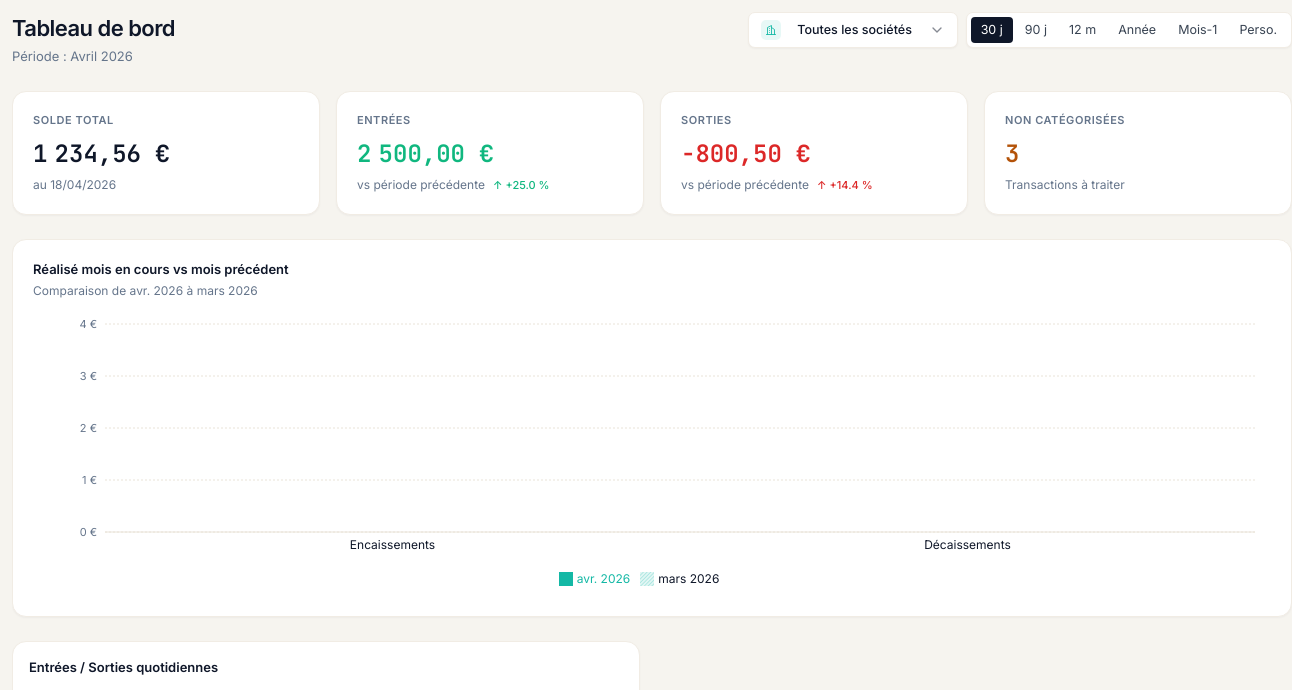
Test case: DashboardPage › refetches when period changes
Check: the text "Période : Avril 2026" is shown, box [12,48,133,64]
Click the button "Mois-1" at (1198, 30), box [1168,17,1227,43]
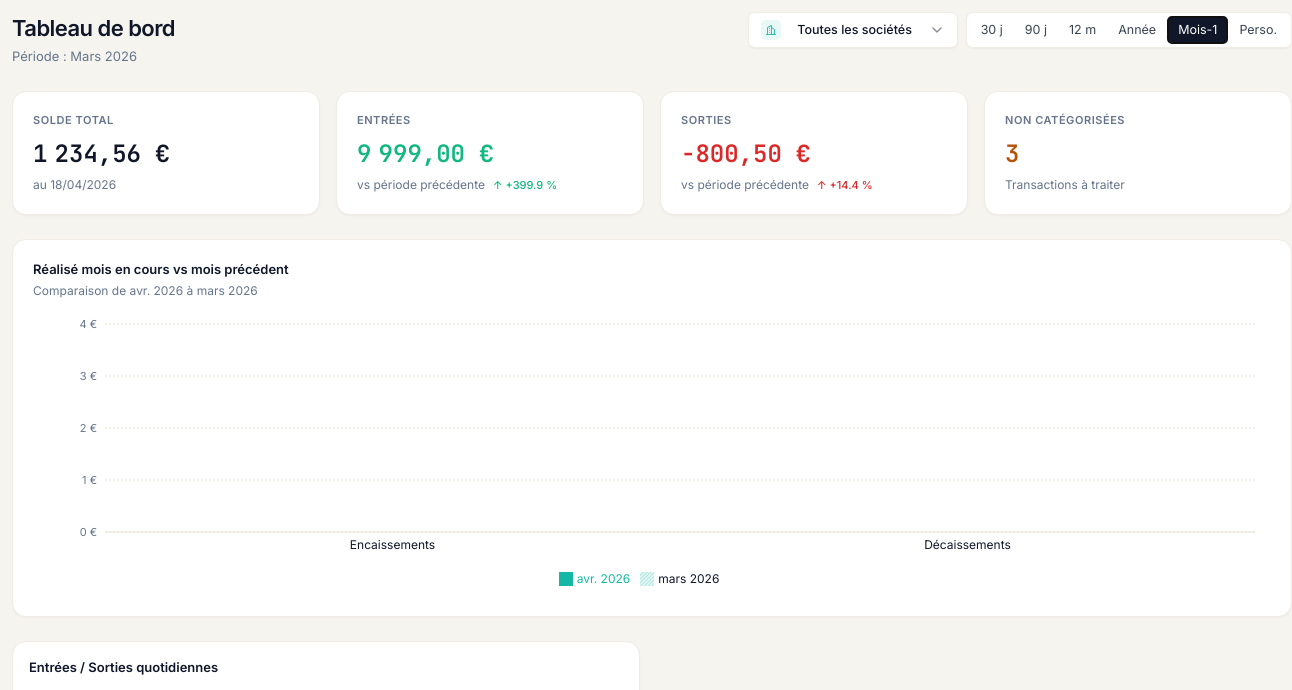
Check: the text "Période : Mars 2026" is shown, box [12,48,137,64]
Check: the text "9 999,00 €" is shown, box [357,138,494,169]
